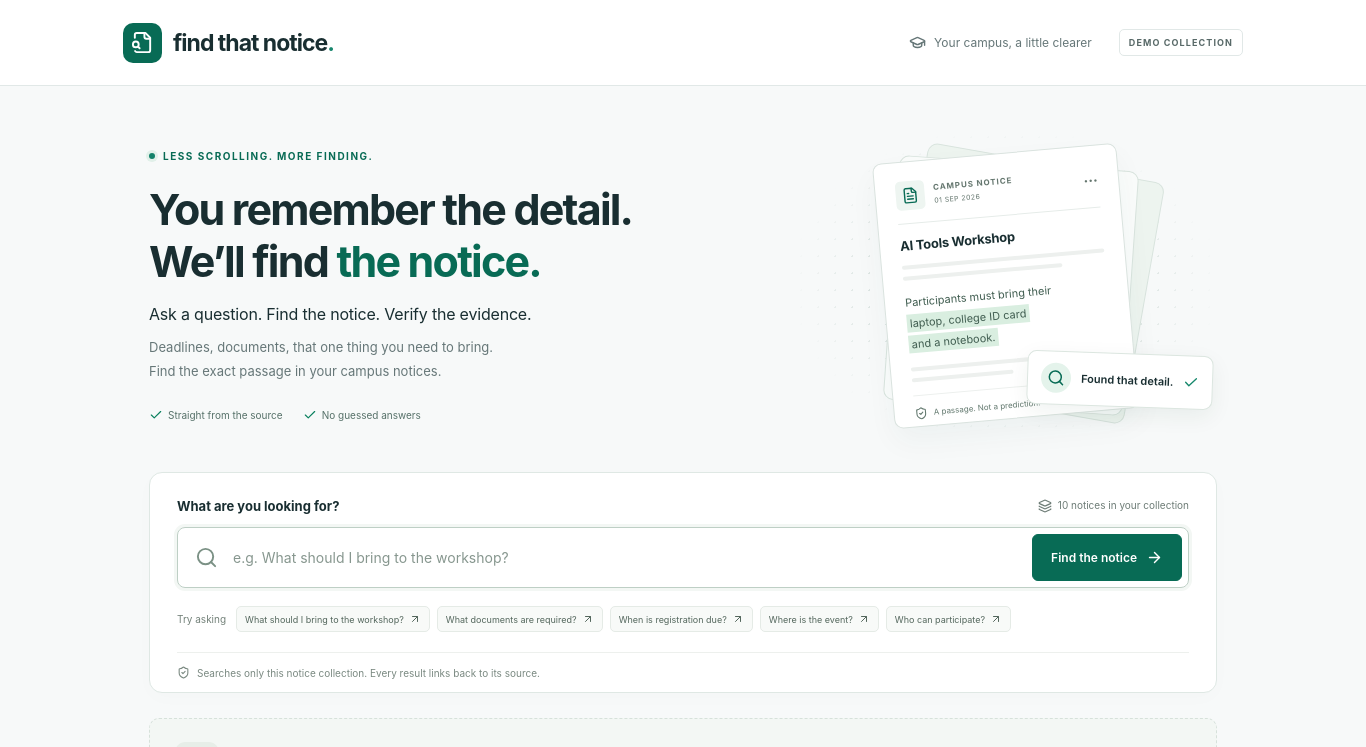
Test: Evidence search › shows the unsupported state without fabricating an answer
Type "weather" into the field at (625, 558), box [231,536,1019,580]
Then press Enter
(page scrolled)
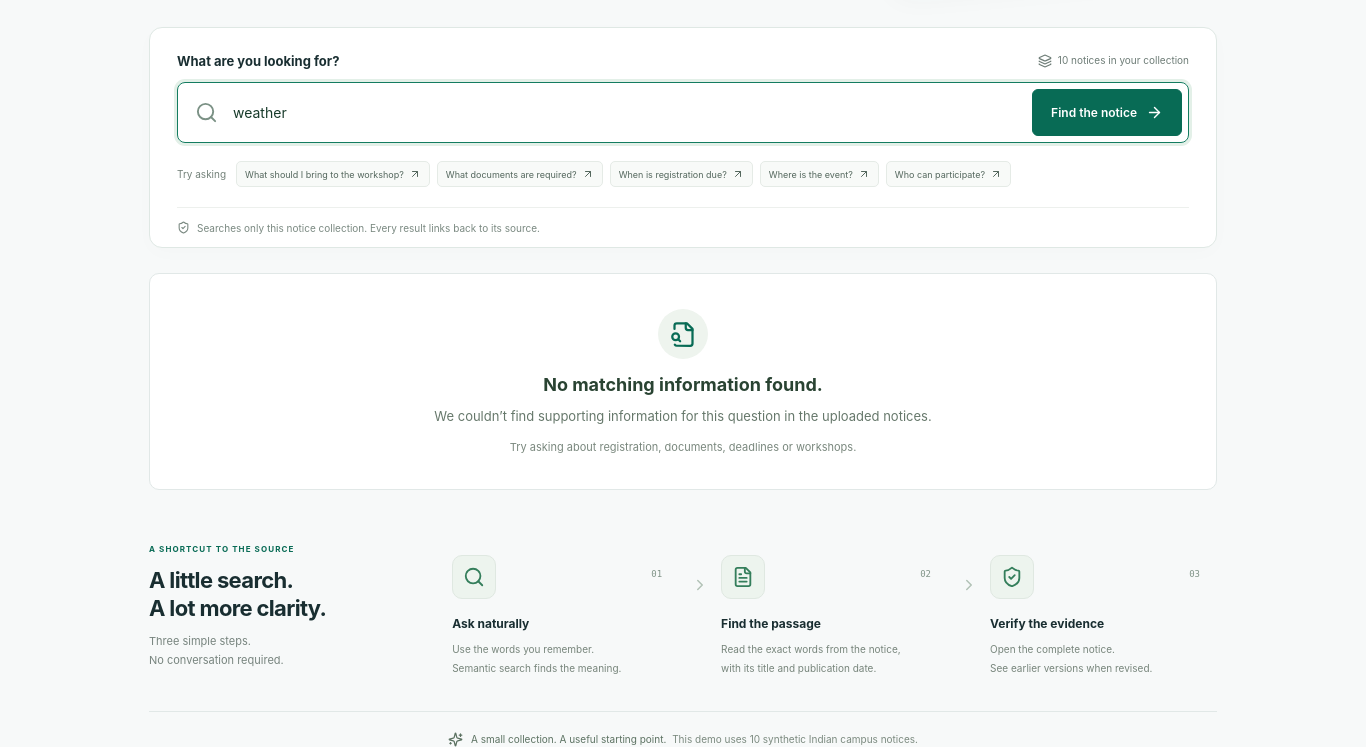
Expected: the heading "No matching information found." is shown, [543,374,823,395]
